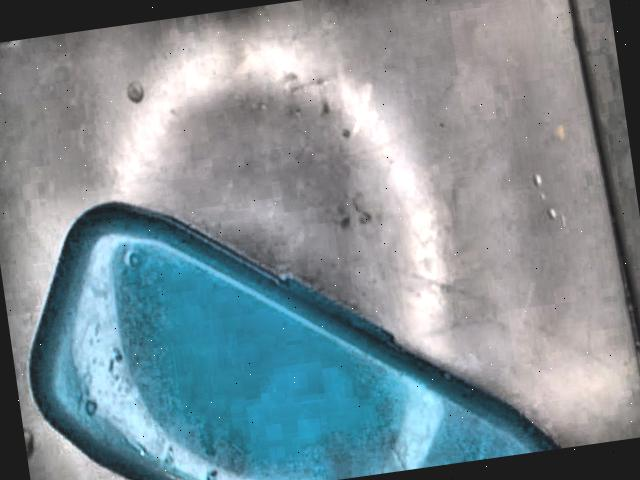Plastic: (28, 204, 565, 480)
